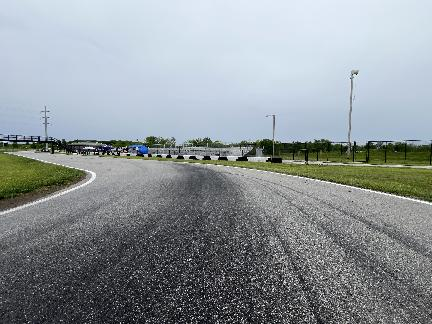Grass: (97, 156, 431, 201), (0, 153, 84, 199)
Lane: (0, 153, 431, 323)
